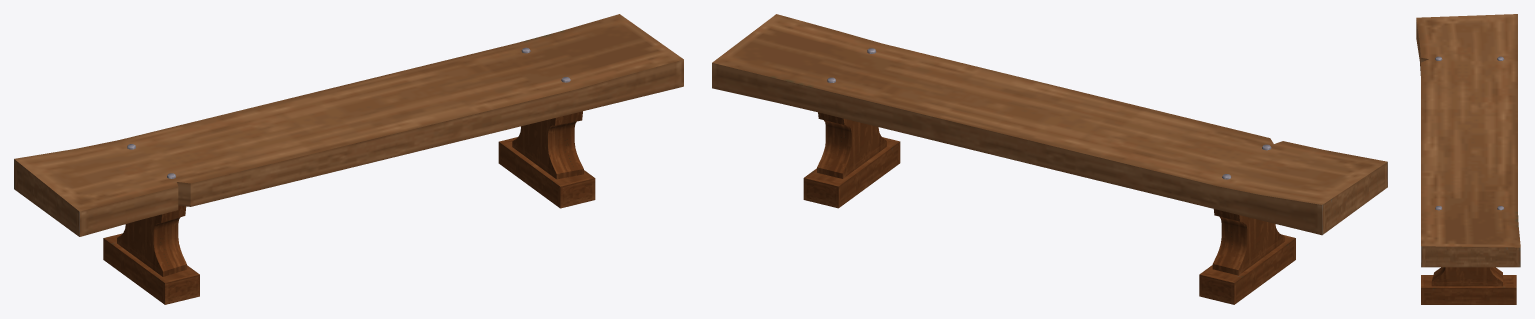
Rendered from Bench.glb.
3 renders of one model, left to right at view 1: azimuth 30°, elevation 25°; view 2: azimuth 150°, elevation 25°; view 3: azimuth 270°, elevation 25°, orthographic. The views are drawn at different scales.
Parts seen in each view (by area): view 1: Bench; view 2: Bench; view 3: Bench.
Boxes of the visible parts, x1,y1,x2,y2 form: Bench: [14, 14, 683, 304]; Bench: [712, 14, 1387, 304]; Bench: [1416, 14, 1520, 304].
Size of the model in its own units: 2.78 by 0.5332 by 0.5342.
Materials: 2 (2 with a texture image).
